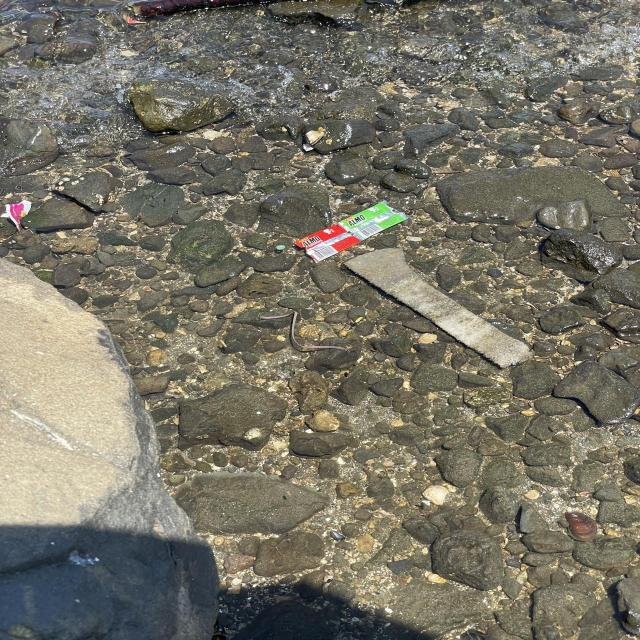plastic_waste: (296, 201, 417, 265), (8, 201, 33, 231)
